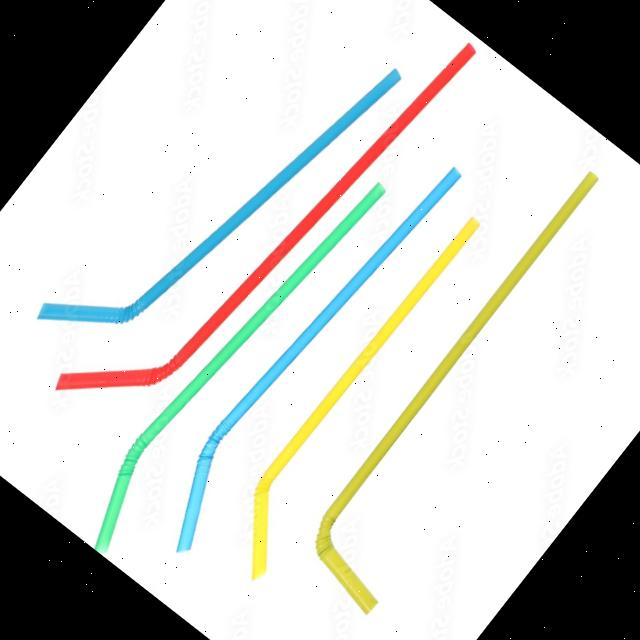plastic: (278, 157, 640, 623)
